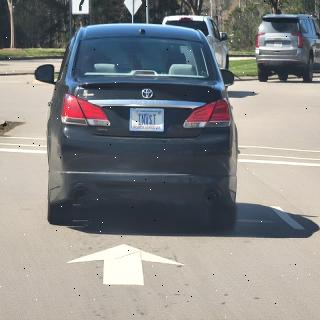license: (131, 109, 165, 133)
